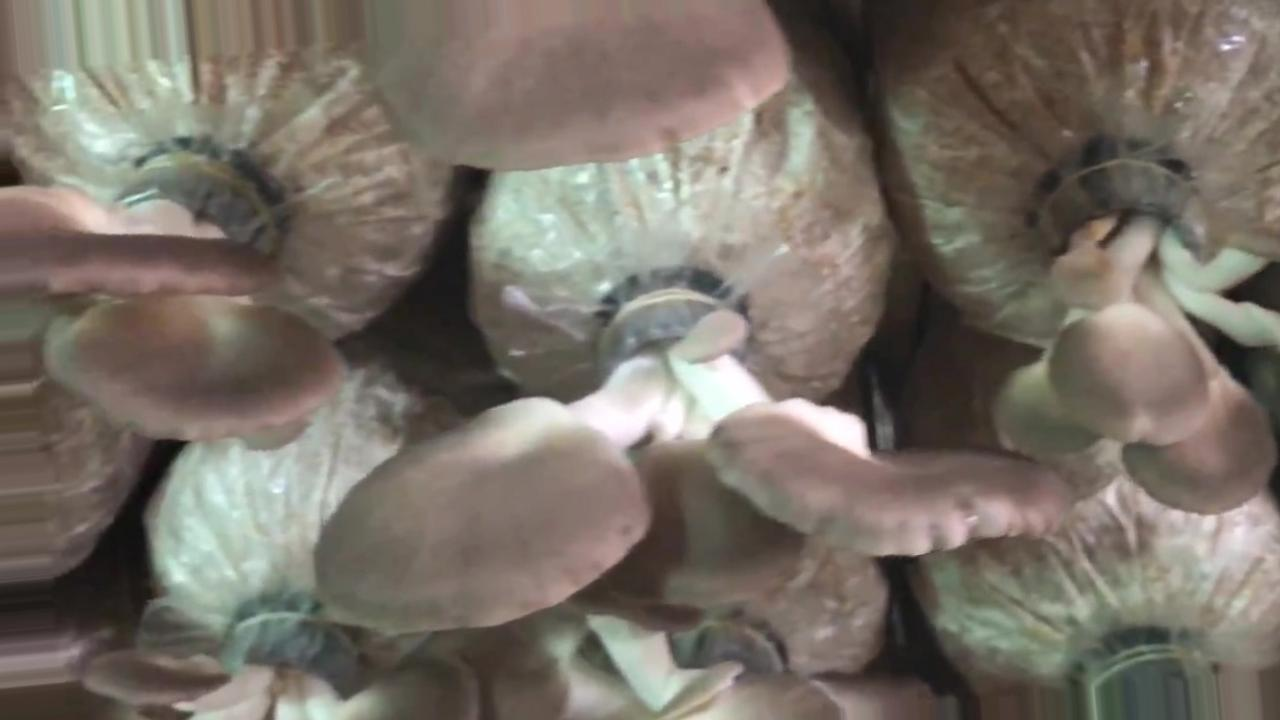nam: (310, 268, 1081, 643), (996, 135, 1280, 512), (5, 155, 349, 449), (375, 7, 792, 166)
